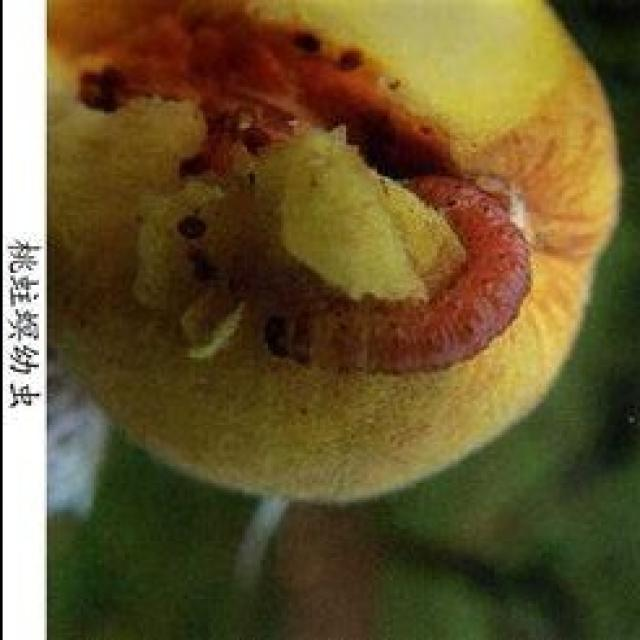peach borer: (257, 164, 541, 384)
